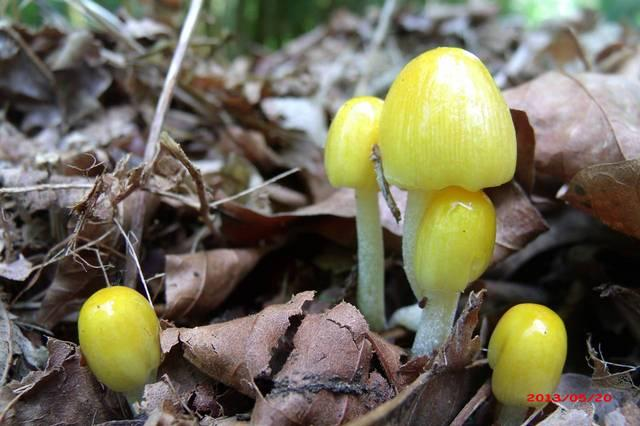edible_mushroom: (376, 44, 518, 358), (322, 94, 398, 332), (482, 296, 573, 415), (77, 280, 167, 399)
